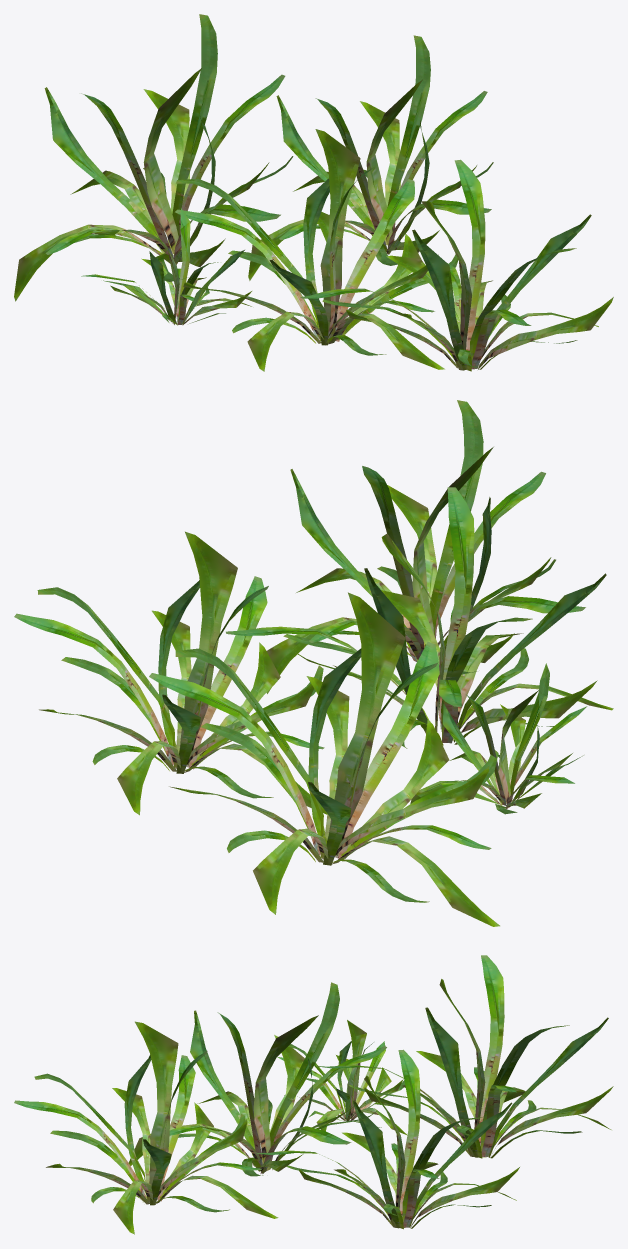
Rendered from Herb Plant Variant 2.fbx.
The picture shows the model from 3 angles, top to bottom: view 1: azimuth 30°, elevation 25°; view 2: azimuth 150°, elevation 25°; view 3: azimuth 270°, elevation 25°; orthographic projection. The views are drawn at different scales.
Visible parts, largest first — view 1: herb_plant_2_LOD0; view 2: herb_plant_2_LOD0; view 3: herb_plant_2_LOD0.
Boxes of the visible parts, x1,y1,x2,y2 form: herb_plant_2_LOD0: [14, 14, 613, 371]; herb_plant_2_LOD0: [14, 400, 613, 926]; herb_plant_2_LOD0: [14, 955, 613, 1234].
Size of what is drawn, in the model's own units: 101 by 47.99 by 137.
Materials: 1 (1 with a texture image).
